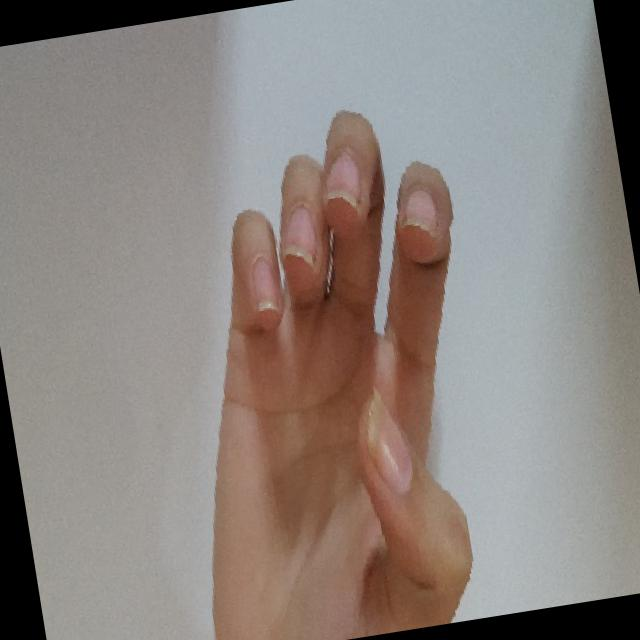Nail: (362, 392, 414, 493), (282, 207, 317, 261), (326, 155, 359, 207), (400, 191, 438, 233), (252, 258, 279, 315)
